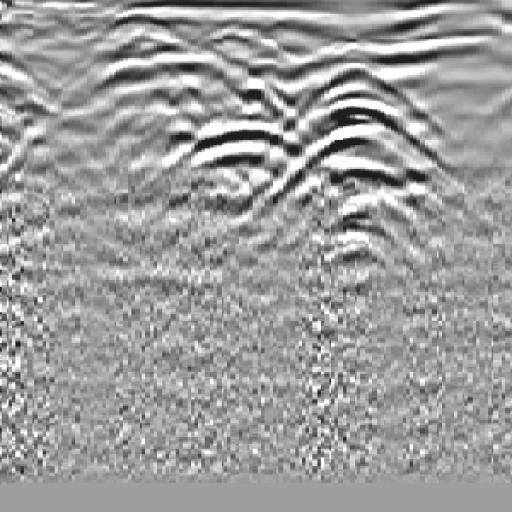metalic: (265, 66, 456, 235)
